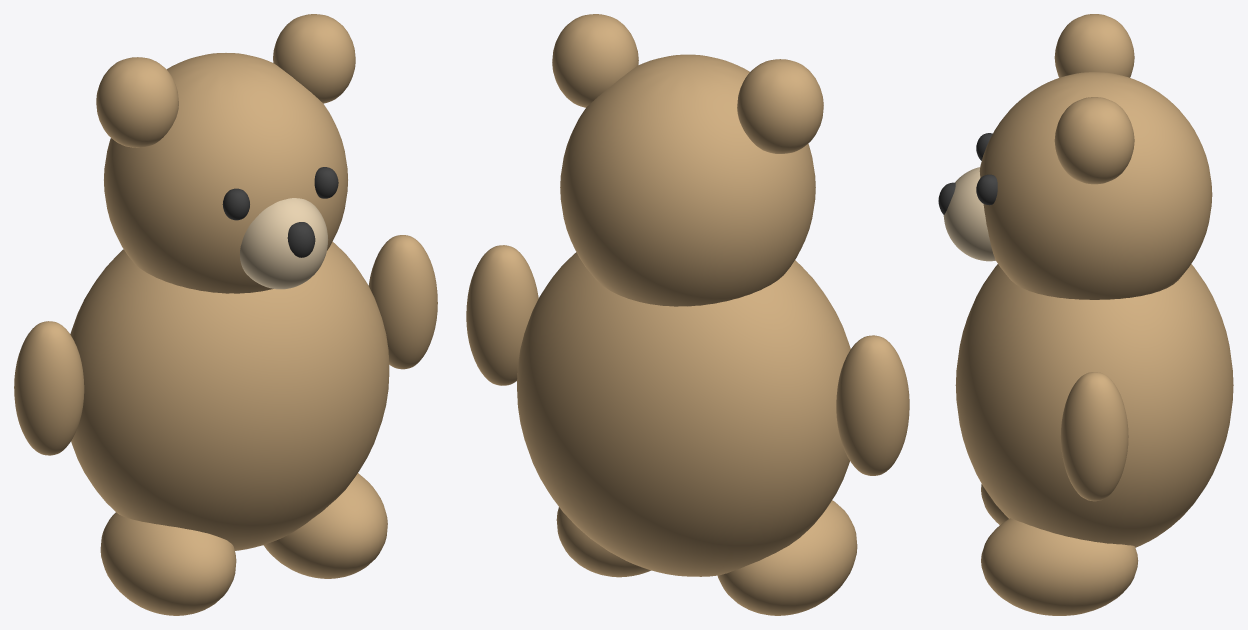
The model's file is teddy_bear.glb.
The picture shows the model from 3 angles, left to right: view 1: azimuth 30°, elevation 25°; view 2: azimuth 150°, elevation 25°; view 3: azimuth 270°, elevation 25°; orthographic projection. The views are drawn at different scales.
Visible parts, largest first — view 1: teddy_bear; view 2: teddy_bear; view 3: teddy_bear.
Part boxes in pixels (box(x1,y1,x2,y2)): teddy_bear: box(14, 14, 437, 615); teddy_bear: box(466, 14, 909, 615); teddy_bear: box(938, 14, 1233, 615).
Size of the model in its own units: 0.6566 by 0.8088 by 0.4204.
